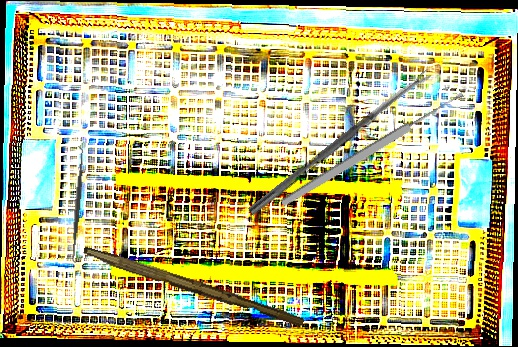Scalpel Handle: (80, 245, 307, 329)
Spatula Surgical: (65, 145, 90, 264)
Surgical Spoon: (247, 69, 433, 217), (278, 89, 467, 209)
